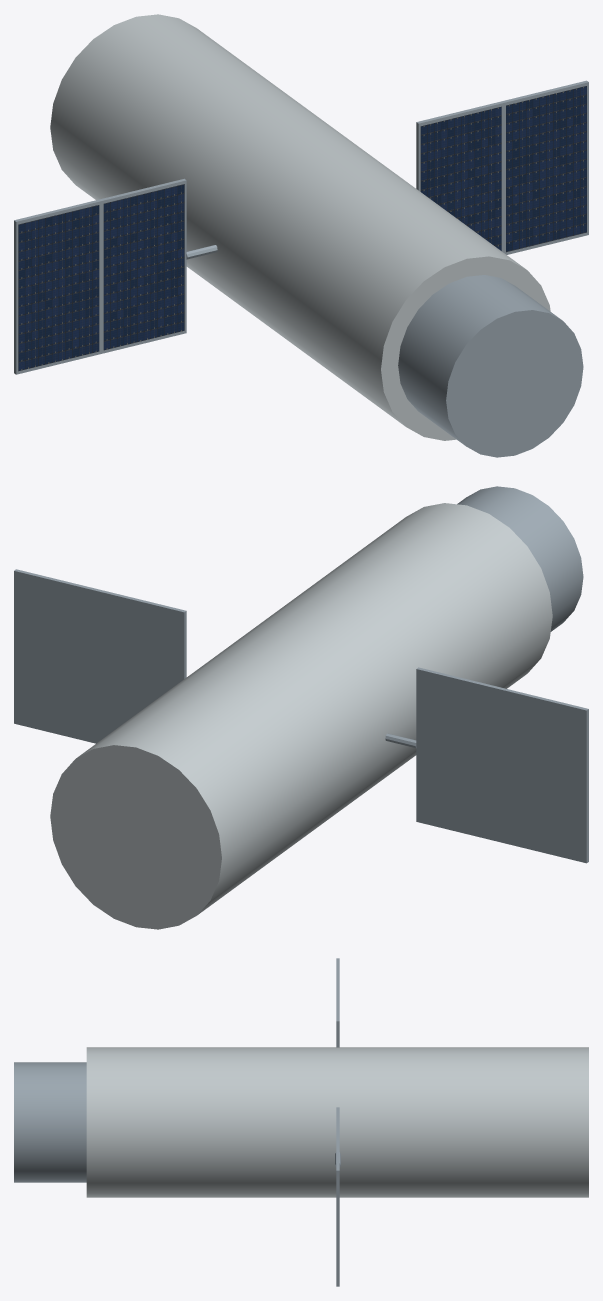
Rendered from ref-astro-d-22521.glb.
3 views of the same model, one above another, from view 1: azimuth 30°, elevation 25°; view 2: azimuth 150°, elevation 25°; view 3: azimuth 270°, elevation 25° (orthographic). The views are drawn at different scales.
Visible parts, largest first — view 1: Spacecraft body, Photovoltaic laminates (×4), Cylindrical section, Array frame (×4); view 2: Spacecraft body, Array frame (×4), Cylindrical section; view 3: Spacecraft body, Cylindrical section, Array frame.
Part boxes in pixels (x1,y1,x2,y2): Spacecraft body: (50, 14, 550, 440); Photovoltaic laminates (×4): (18, 86, 586, 371); Cylindrical section: (398, 275, 583, 457); Array frame (×4): (14, 80, 588, 374); Spacecraft body: (50, 503, 552, 929); Array frame (×4): (14, 569, 588, 863); Cylindrical section: (457, 486, 583, 631); Spacecraft body: (86, 1047, 588, 1197); Cylindrical section: (14, 1062, 86, 1182); Array frame: (336, 1139, 339, 1286).
Size of the model in its own units: 4 by 1.2 by 4.58.
3 materials, 1 textured.
